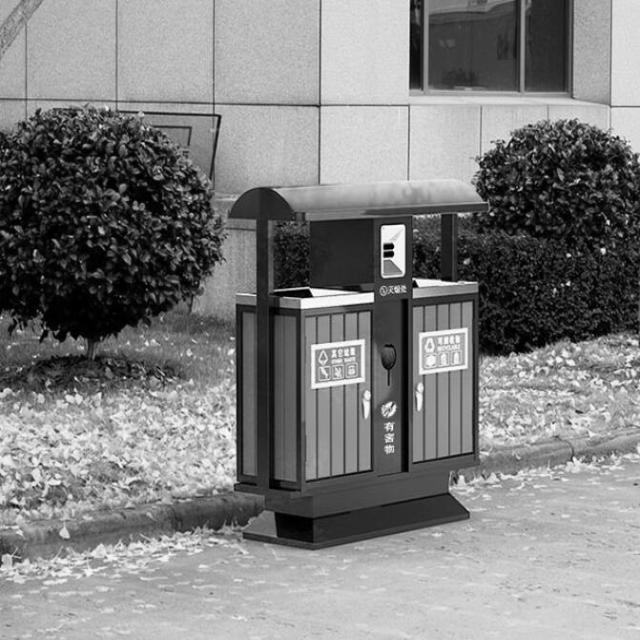ash bin: (221, 174, 492, 548)
